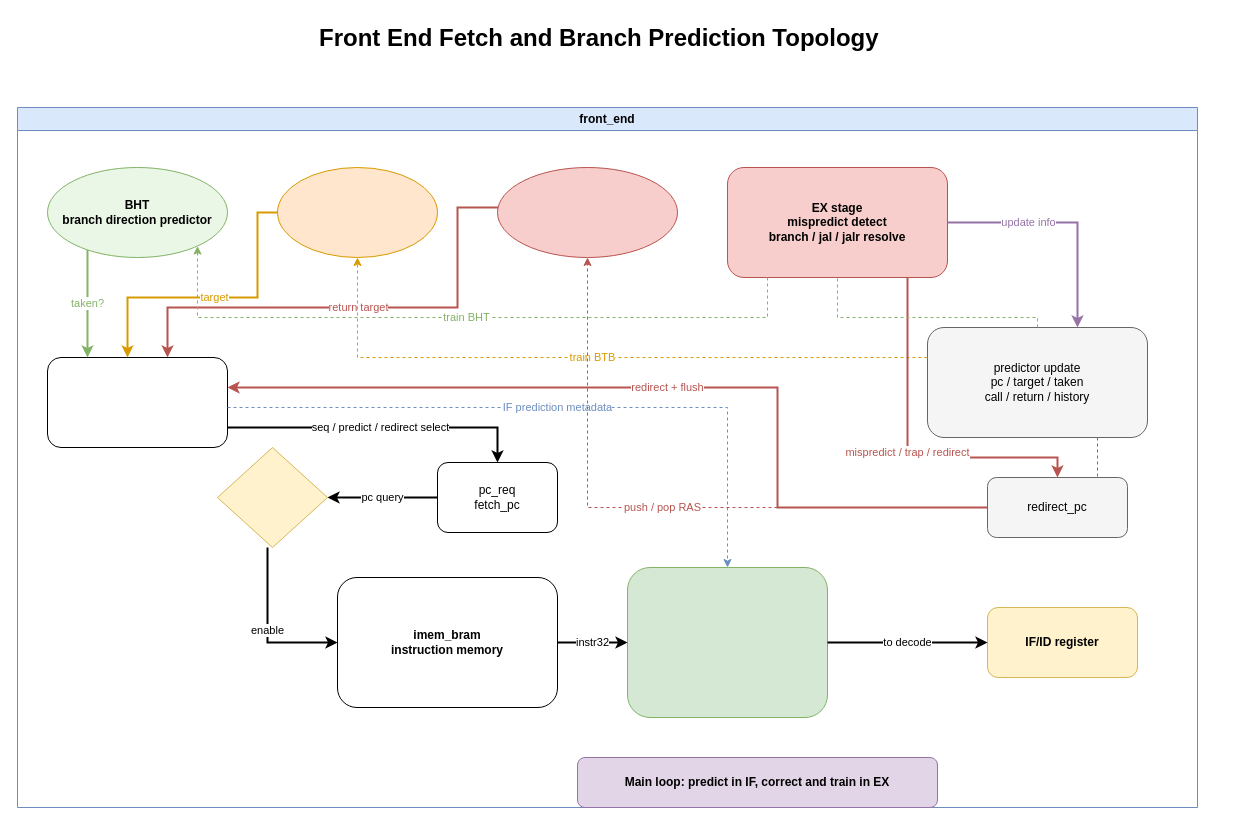
Some shapes in this 1255 by 825 pixel diagram are drawn without their labels. Each missing label, with the centre of its shape:
BTB target predictor: the point at 357,212
fetch outputs instr32 predict_taken predict_target predict_history: the point at 727,642
imem_en gate disable fetch on stall: the point at 272,497
pc_manager seq / predict / redirect: the point at 137,402
RAS return address stack: the point at 587,212
